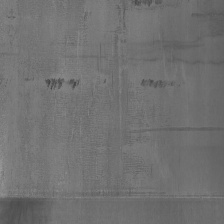welding_line: (0, 188, 224, 206), (139, 72, 181, 94), (43, 77, 79, 92), (129, 0, 168, 13)
